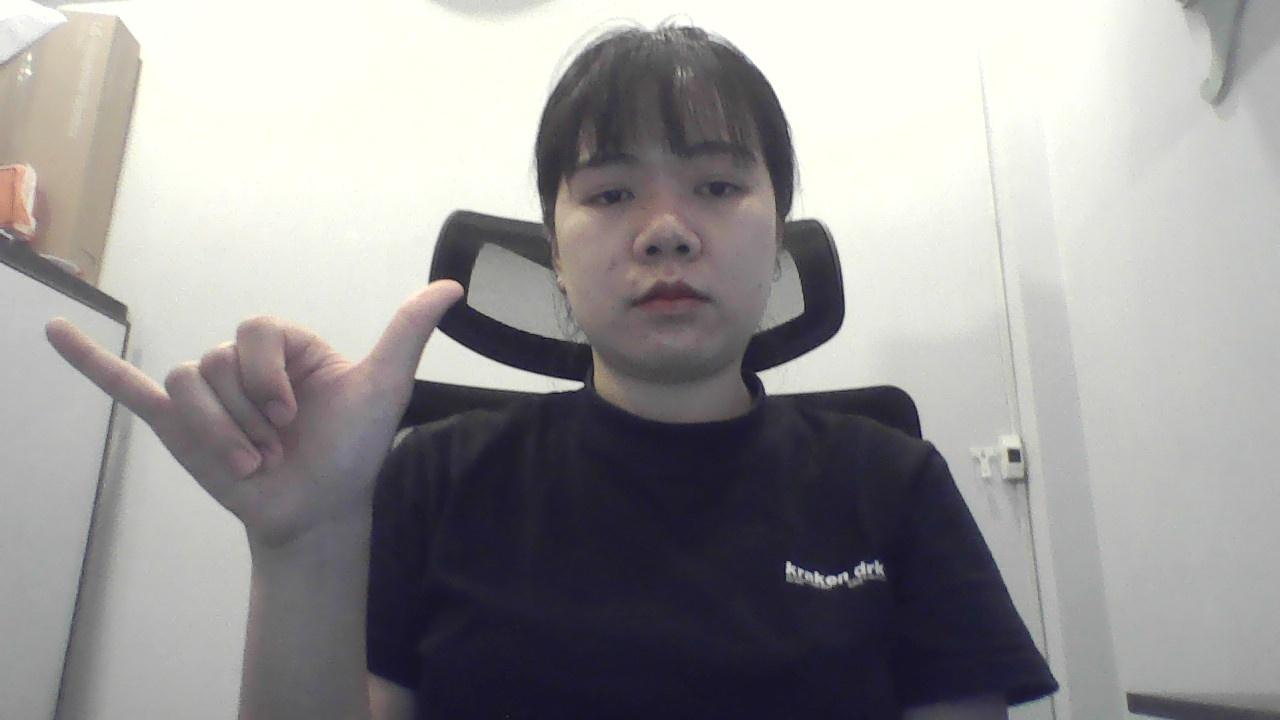Y: (25, 269, 472, 547)
